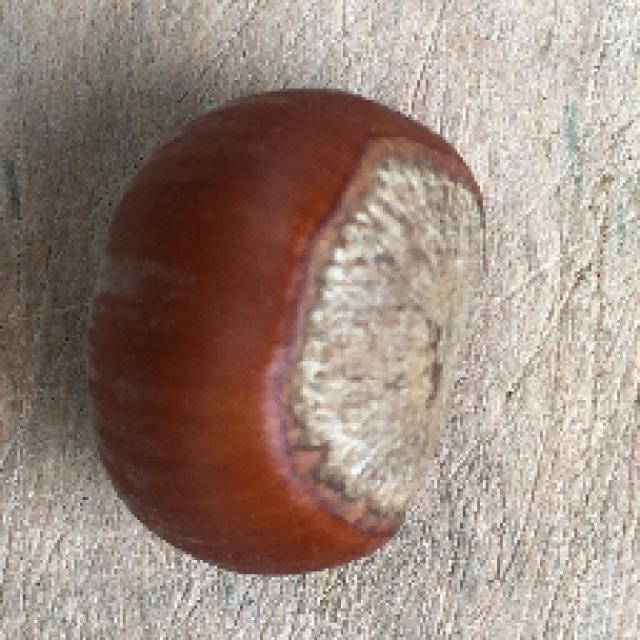qualityHazelnut: (81, 82, 489, 579)
